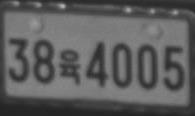0: (111, 42, 133, 88), (137, 42, 158, 90)
3: (7, 37, 29, 82)
4: (84, 41, 110, 88)
5: (163, 45, 186, 91)
8: (32, 38, 55, 82)
육: (58, 48, 82, 85)
